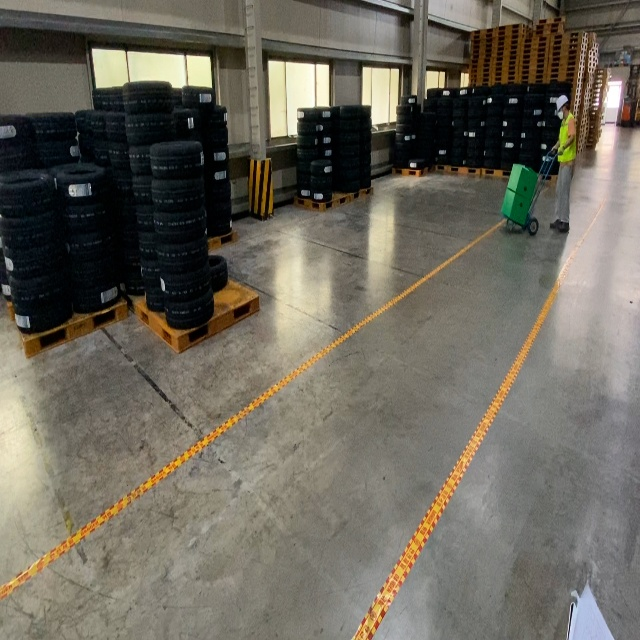Box: (507, 163, 539, 198), (501, 189, 530, 227)
Worker: (550, 95, 576, 234)
